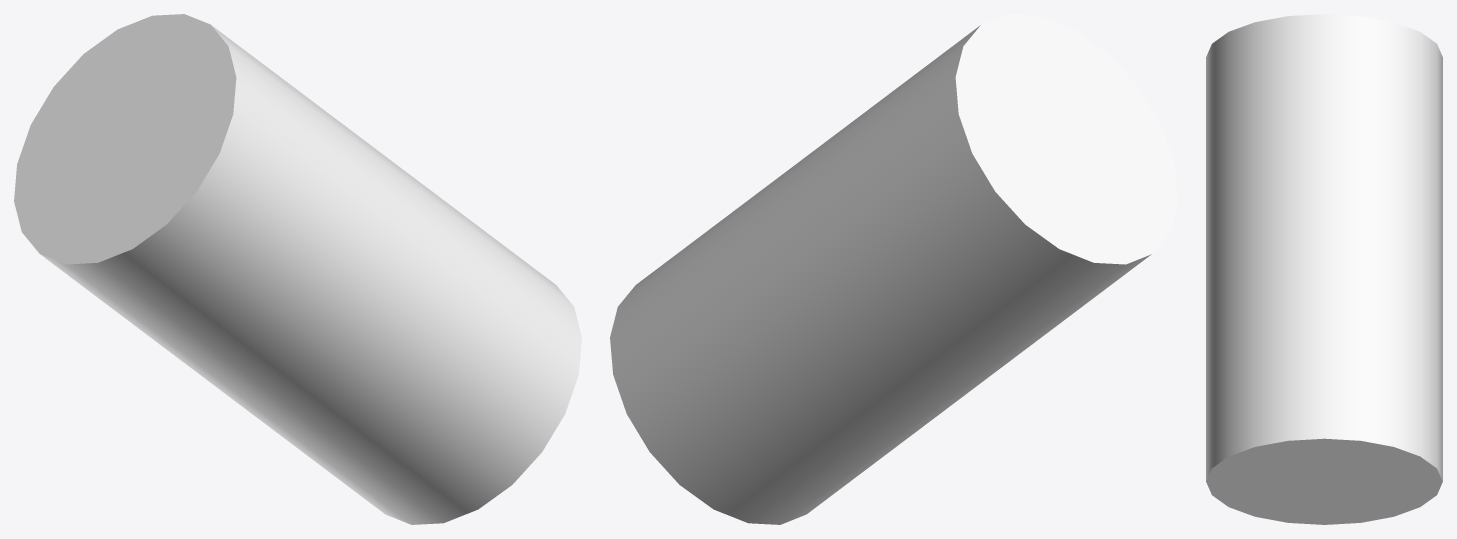
File: brazoI_C.obj
3 renders of one model, left to right at view 1: azimuth 30°, elevation 25°; view 2: azimuth 150°, elevation 25°; view 3: azimuth 270°, elevation 25°, orthographic. The views are drawn at different scales.
Parts seen in each view (by area): view 1: brazo_i; view 2: brazo_i; view 3: brazo_i.
Boxes of the visible parts, bbox=[...] form: brazo_i: bbox=[14, 14, 581, 524]; brazo_i: bbox=[610, 14, 1177, 524]; brazo_i: bbox=[1206, 14, 1442, 524].
Size of the model in its own units: 2.92 by 2.87 by 1.4.
